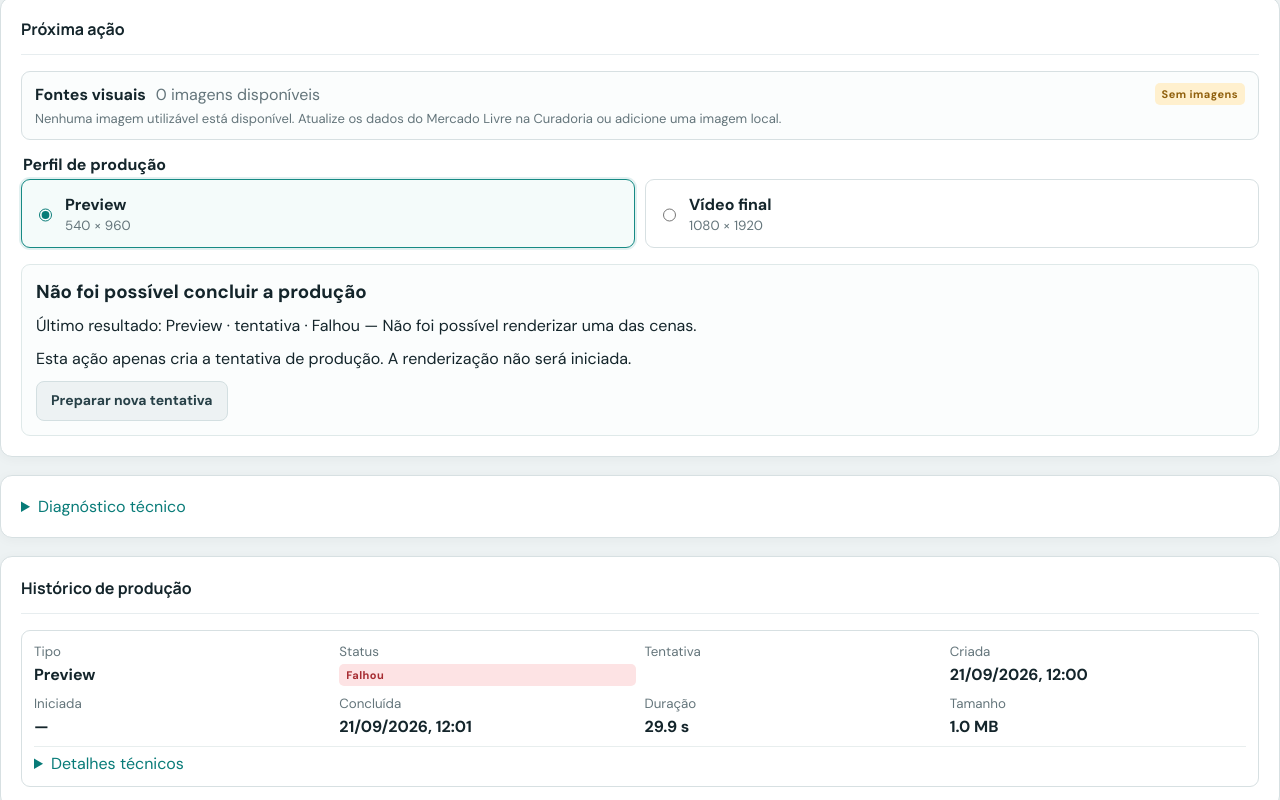
Test: produção de mídia › falha amigável permite tentar novamente criando um novo job
The width and height of the screenshot is (1280, 800).
(page scrolled)
Expected: the heading "Não foi possível concluir a produção" is shown, [36,279,367,304]
Expected: the text "Não foi possível renderizar uma das cenas" is shown, [360,315,696,336]
Click the button "Preparar nova tentativa".
click(132, 401)  # box [36,381,228,421]
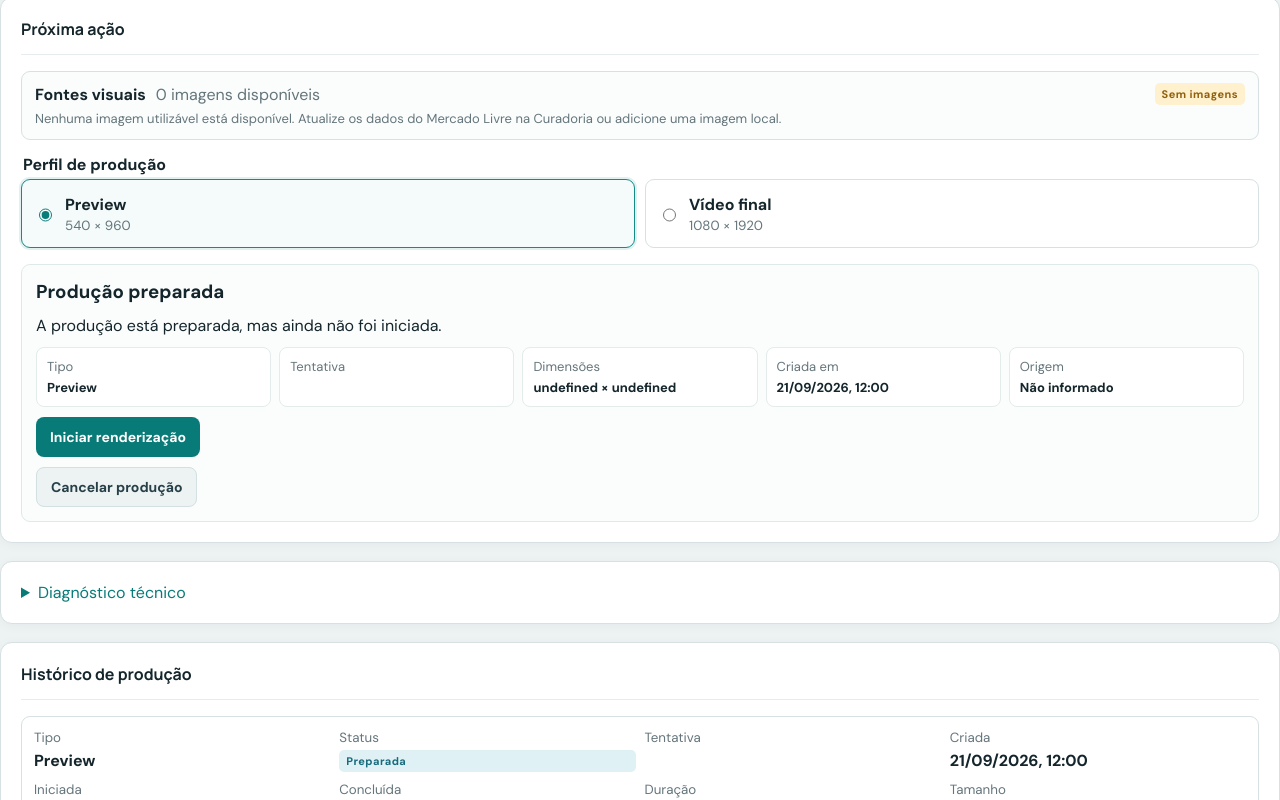
Expected: the heading "Produção preparada" is shown, [36,279,224,304]
